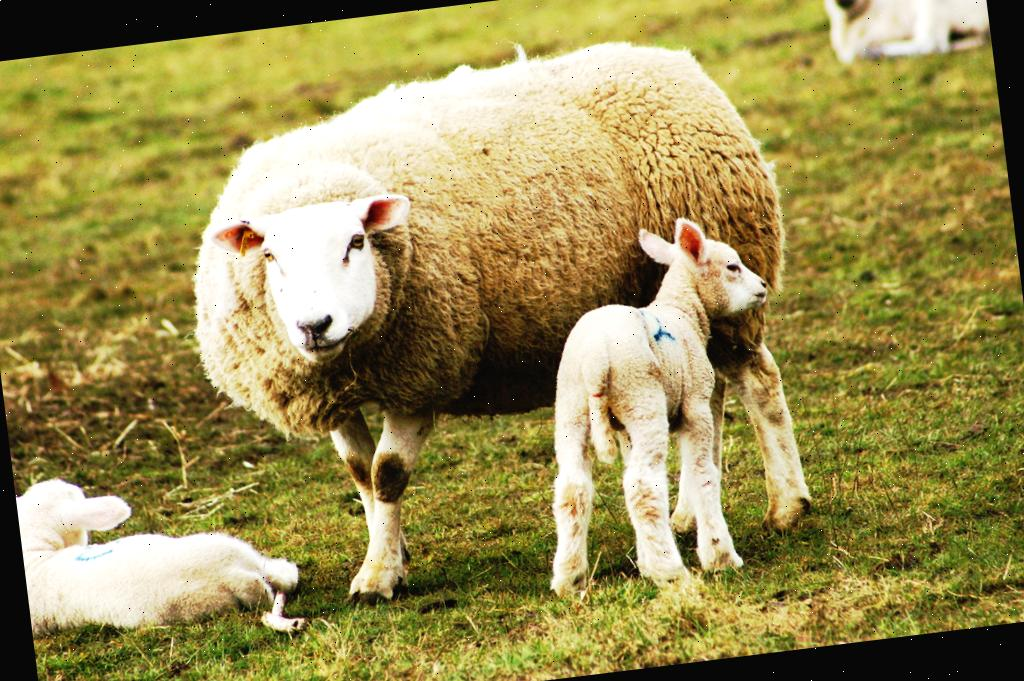Sheep: (164, 9, 822, 626), (504, 206, 800, 603), (14, 448, 300, 640), (802, 0, 991, 73)
